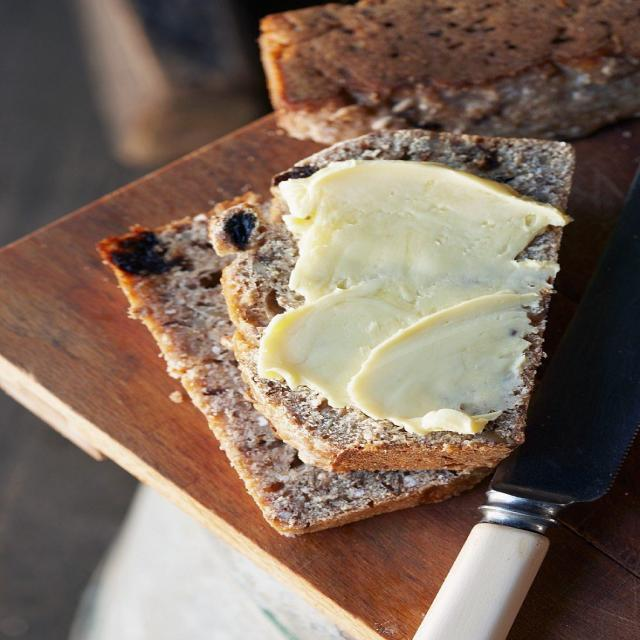Spread: (259, 158, 551, 428)
